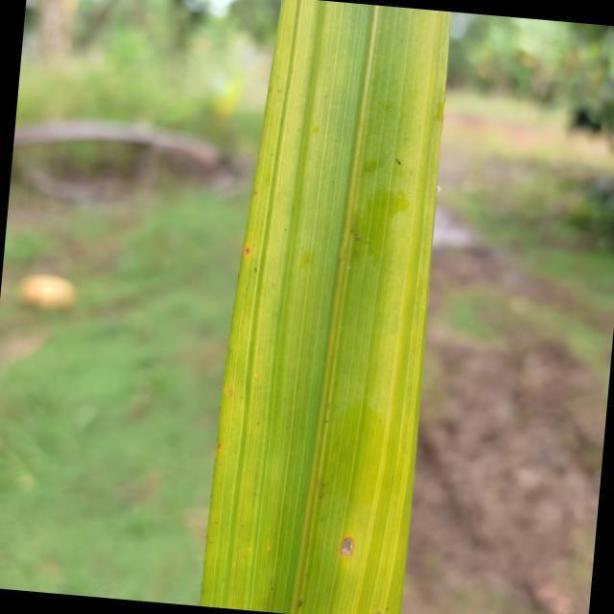nitrogen: (195, 0, 451, 614)
